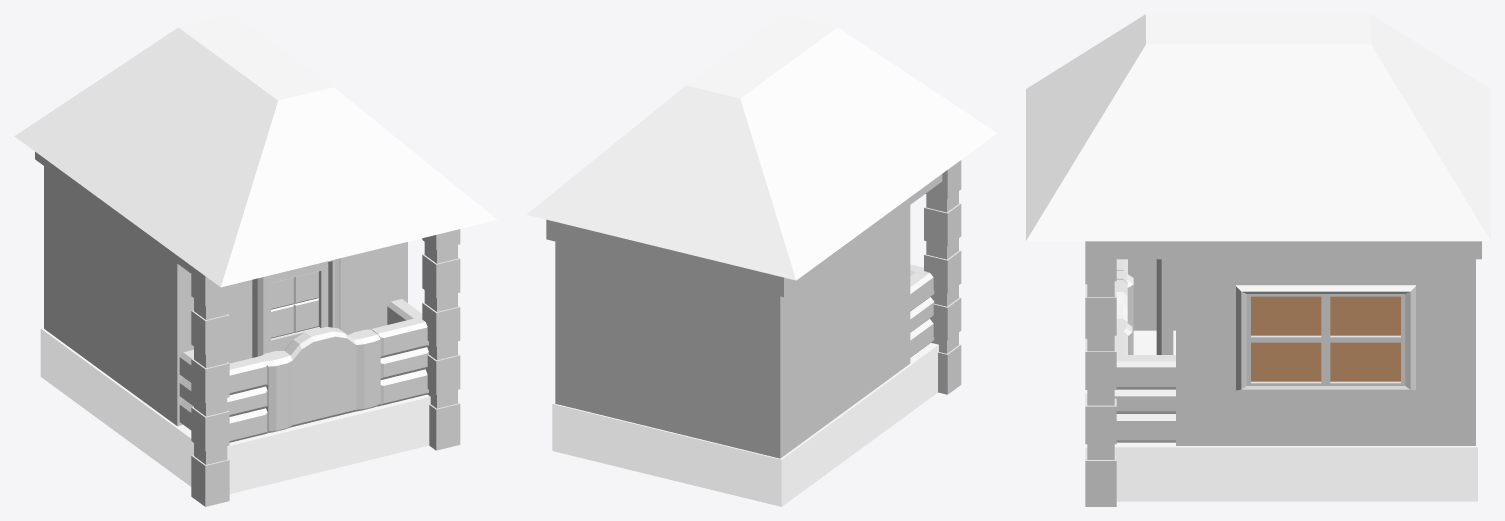
File: small_house_procglb.glb
3 views of the same model, side by side, from view 1: azimuth 30°, elevation 25°; view 2: azimuth 150°, elevation 25°; view 3: azimuth 270°, elevation 25° (orthographic). The views are drawn at different scales.
Parts seen in each view (by area): view 1: small_house_proc; view 2: small_house_proc; view 3: small_house_proc.
Part boxes in pixels (x1,y1,x2,y2): small_house_proc: (14, 14, 497, 506); small_house_proc: (526, 14, 997, 506); small_house_proc: (1026, 14, 1490, 506).
Bounding box in the file's own units: 2.4 × 3 × 3.1.
